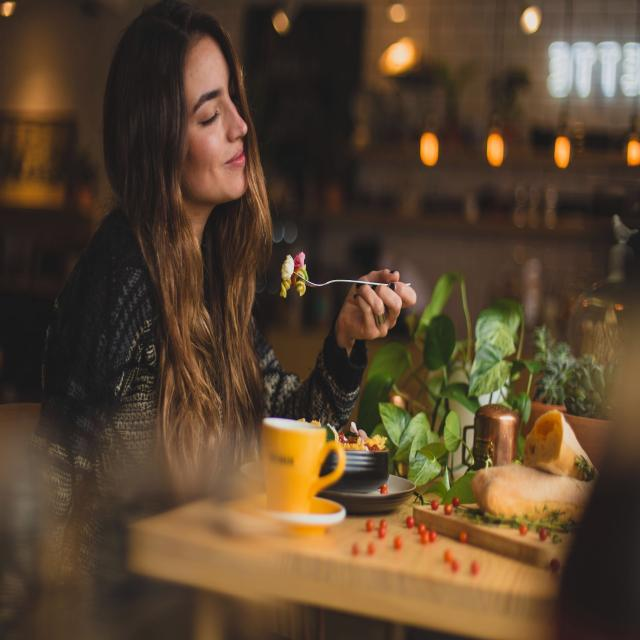adult: (57, 5, 416, 515)
